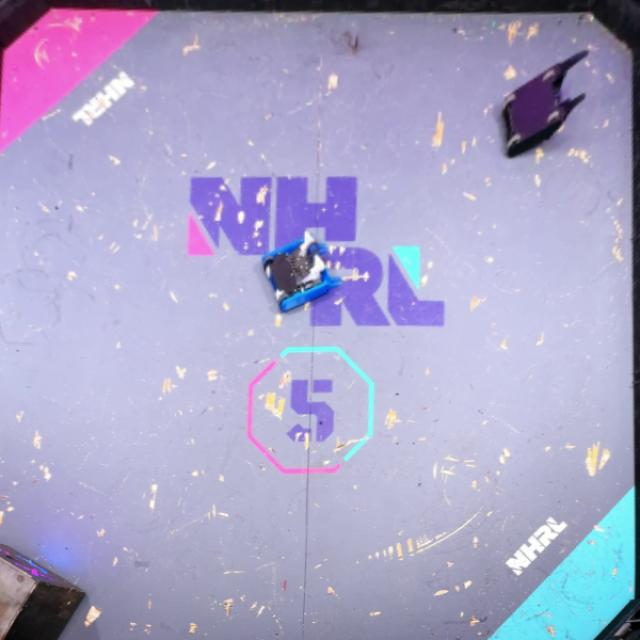housebot: (1, 543, 92, 640)
robot: (497, 49, 592, 154), (263, 233, 344, 318)
